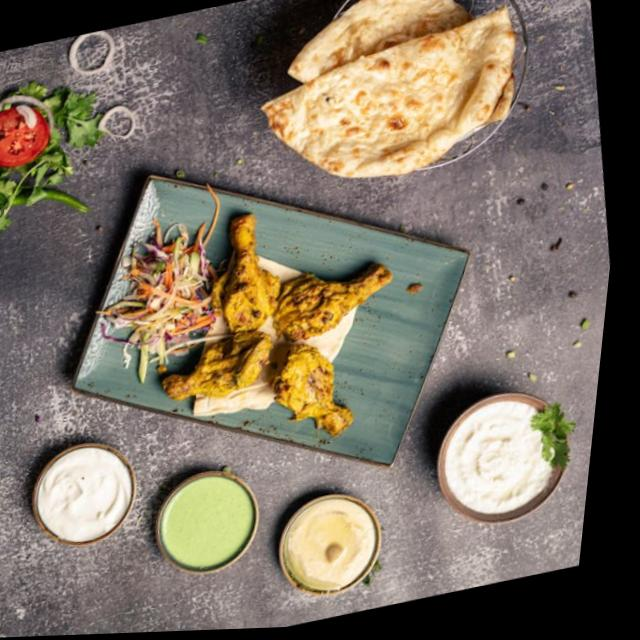CHAPATHI: (252, 0, 517, 189)
CHICKEN FRY: (155, 204, 389, 447)
CURD: (436, 402, 566, 515), (36, 442, 134, 545), (276, 493, 372, 591)
GREEN CHUTNEY: (160, 475, 255, 568)
